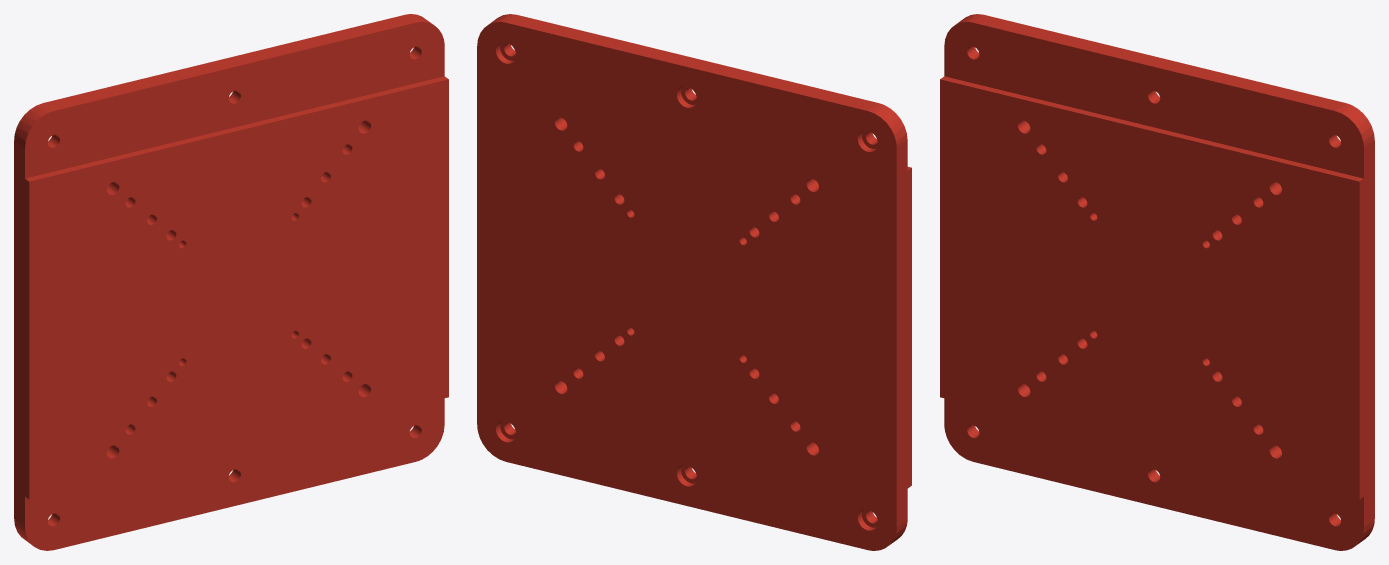
Rendered from Robot Plate Rev3 v27.dae.
3 renders of one model, left to right at view 1: azimuth 30°, elevation 25°; view 2: azimuth 150°, elevation 25°; view 3: azimuth 330°, elevation 25°, orthographic.
Parts seen in each view (by area): view 1: node0; view 2: node0; view 3: node0.
Part boxes in pixels (x1=…): node0: x1=14, y1=14, x2=448, y2=550; node0: x1=477, y1=14, x2=911, y2=550; node0: x1=940, y1=14, x2=1374, y2=550.
Bounding box in the file's own units: 0.29 × 0.018 × 0.29.
